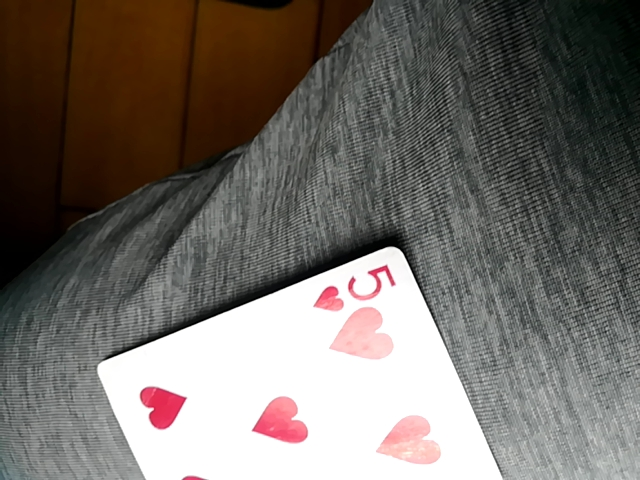hx 5: (97, 247, 497, 478)
